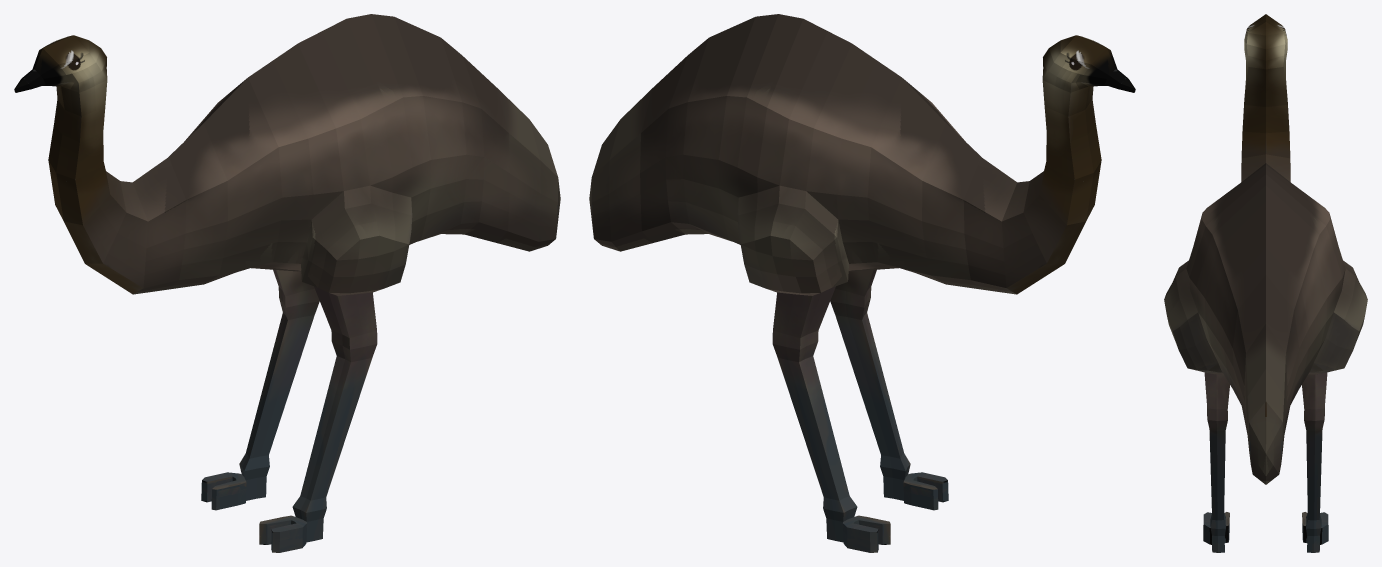
The model's file is kurvaemu.fbx.
3 renders of one model, left to right at view 1: azimuth 30°, elevation 25°; view 2: azimuth 150°, elevation 25°; view 3: azimuth 270°, elevation 25°, orthographic. The views are drawn at different scales.
Visible parts, largest first — view 1: EMU; view 2: EMU; view 3: EMU.
Part boxes in pixels (x1,y1,x2,y2): EMU: [14, 14, 560, 552]; EMU: [589, 14, 1135, 552]; EMU: [1164, 14, 1367, 552].
Bounding box in the file's own units: 709 × 661 × 276.
Materials: 1 (1 with a texture image).
